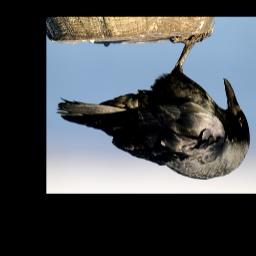Crow: (55, 21, 250, 181)
